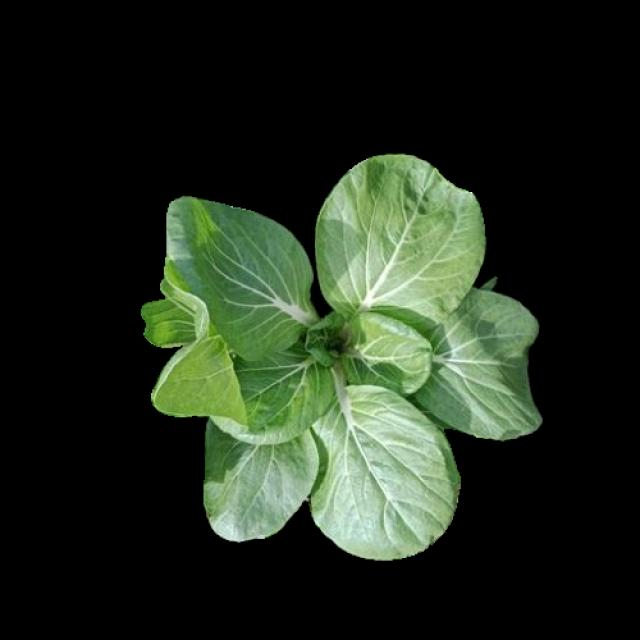healthy: (146, 161, 538, 558)
mature: (146, 174, 535, 554)
